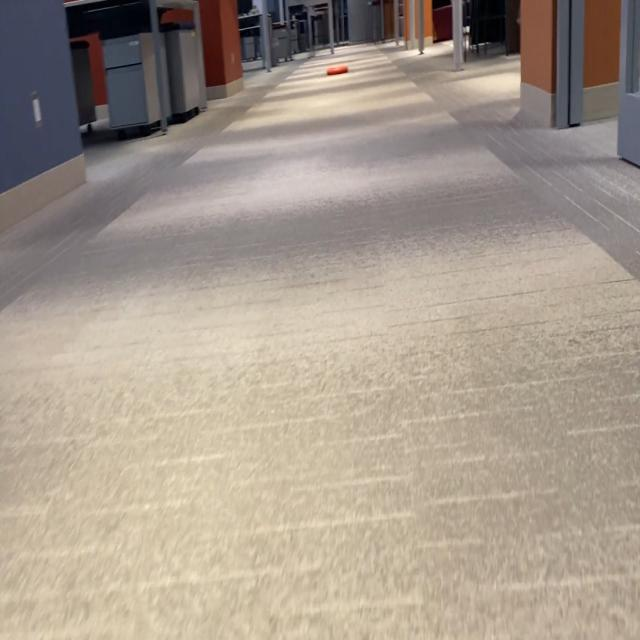note: (326, 62, 348, 78)
